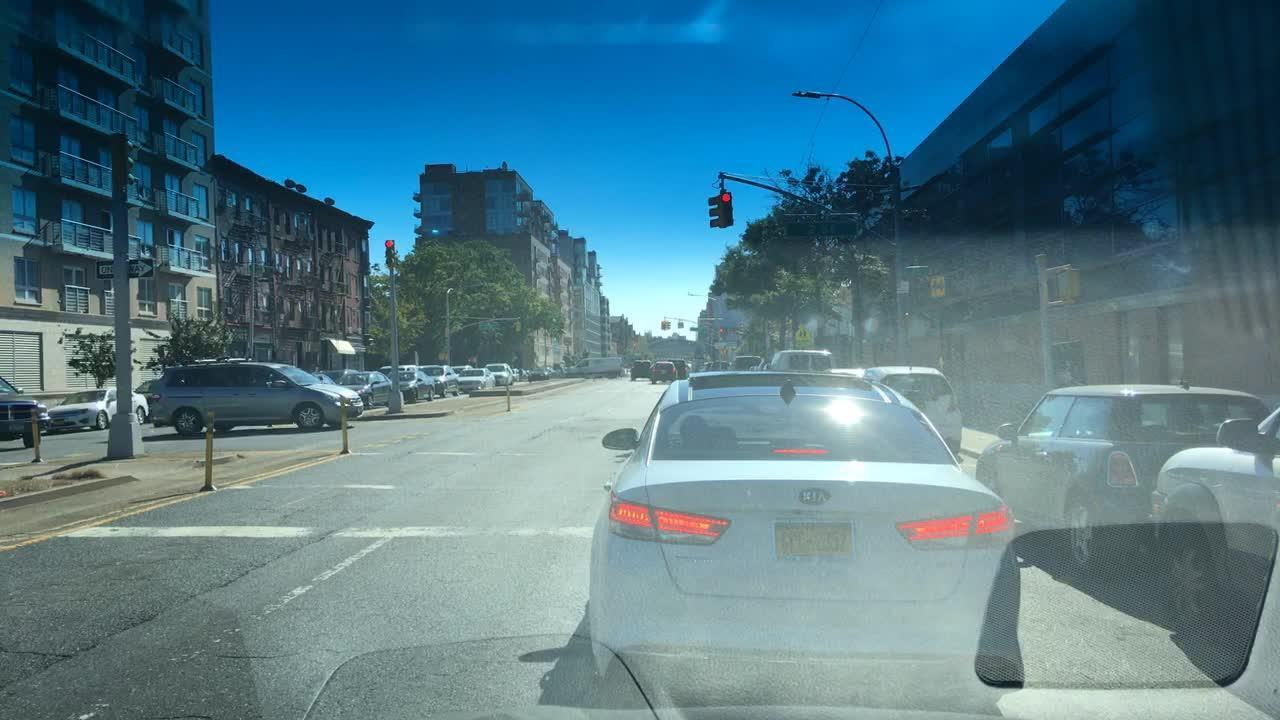kia: (794, 479, 842, 514)
